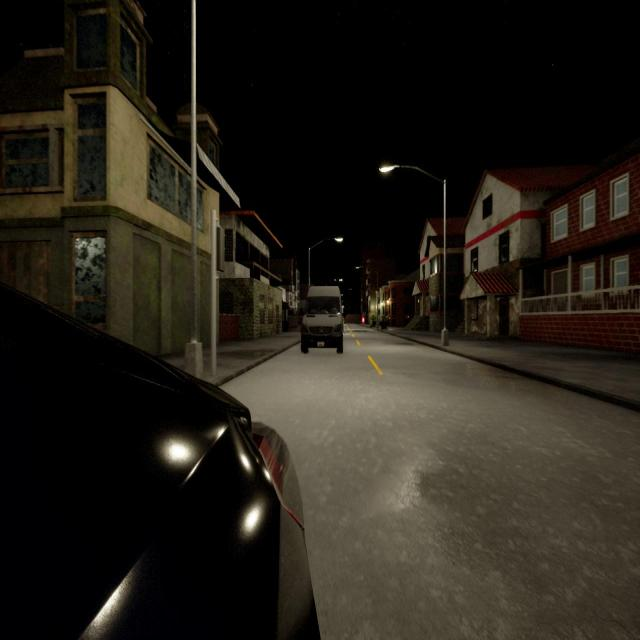Vehicle: (0, 283, 319, 638), (298, 286, 346, 354)
